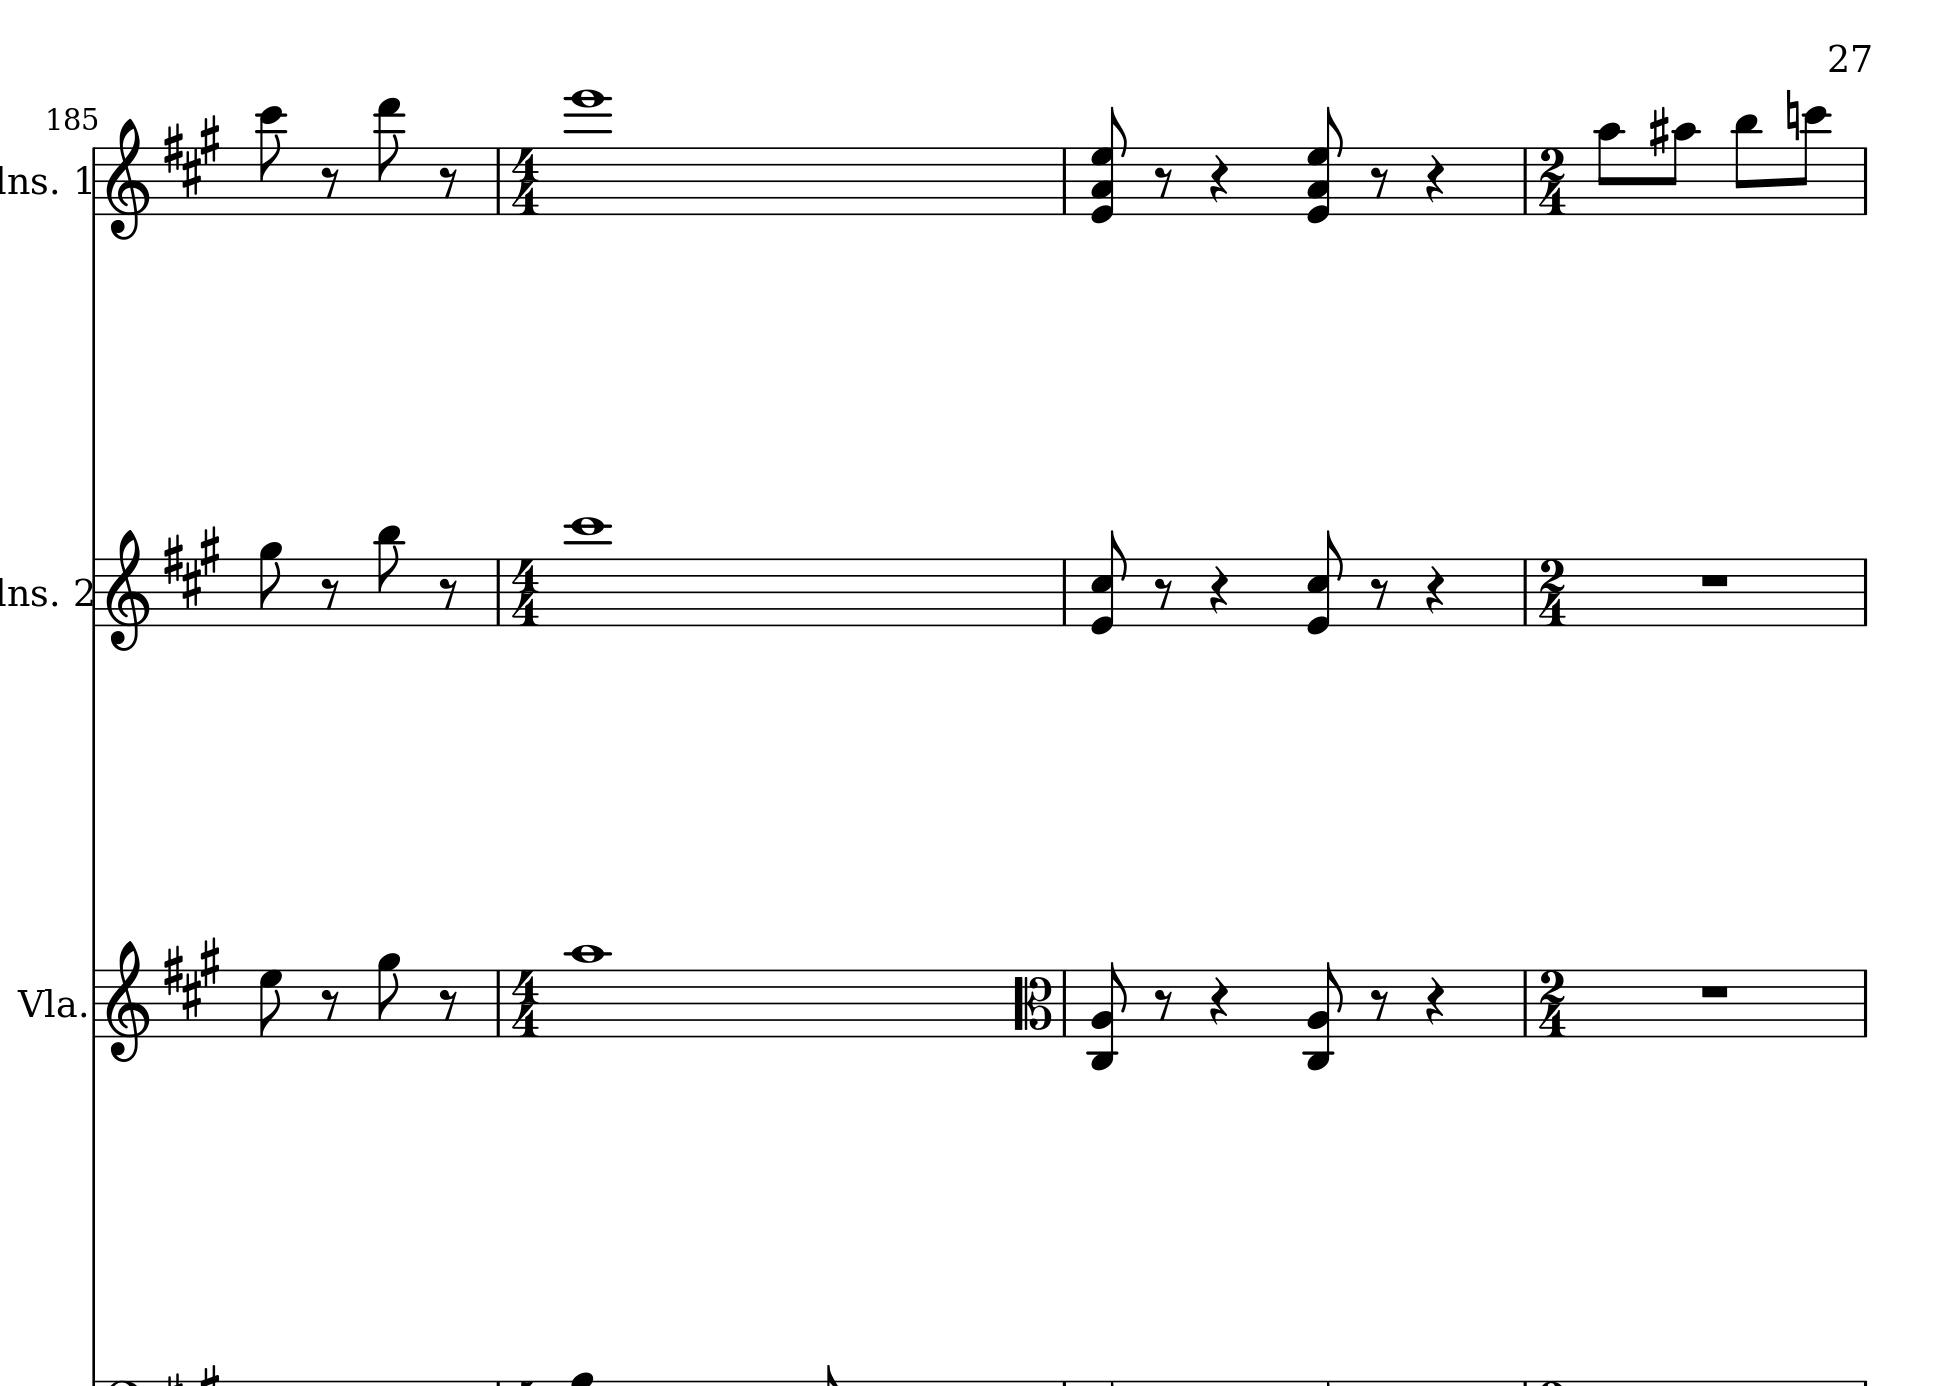1: (46, 103, 61, 133)
1_10: (568, 943, 606, 1039)
1_12: (564, 87, 610, 217), (565, 514, 607, 628)
2: (1537, 145, 1569, 181), (1537, 556, 1569, 592), (1537, 967, 1567, 1003), (1827, 42, 1849, 73)
4: (510, 145, 541, 181), (510, 556, 541, 592), (510, 967, 541, 1003), (1536, 181, 1569, 214), (510, 180, 541, 214), (510, 591, 541, 625), (510, 1002, 541, 1036), (1537, 592, 1569, 625), (1537, 1003, 1569, 1036)
5: (81, 103, 99, 132)
7: (1851, 40, 1872, 73)
8: (61, 103, 79, 132)
8_-3_2: (1302, 960, 1345, 1074), (1087, 961, 1131, 1072)
8_0_5: (1305, 528, 1345, 636), (1089, 529, 1128, 634)
8_10: (1665, 121, 1699, 216), (1596, 120, 1623, 216)
8_11: (373, 523, 403, 628), (1732, 112, 1761, 216)
8_12: (1792, 103, 1830, 217), (256, 103, 286, 217)
8_13: (373, 96, 406, 217)
8_7: (258, 967, 283, 1038)
8_9: (256, 538, 285, 628), (375, 952, 403, 1038)
8_th: (1305, 103, 1345, 229), (1089, 105, 1129, 226)
A_S: (162, 523, 220, 607), (162, 114, 220, 196), (162, 936, 220, 1018)
Cclef: (1014, 967, 1054, 1036)
Gclef: (103, 115, 153, 244), (103, 526, 153, 654), (103, 937, 151, 1065)
Natural: (1785, 88, 1800, 142)
Rests1: (1696, 568, 1734, 589), (1696, 979, 1734, 1000)
Rests4: (1209, 153, 1230, 205), (1425, 153, 1446, 205), (1425, 564, 1446, 616), (1209, 975, 1230, 1027), (1425, 975, 1446, 1027), (1209, 564, 1230, 615)
Rests8: (1152, 165, 1176, 199), (1152, 576, 1176, 610), (1152, 987, 1176, 1021), (1368, 987, 1392, 1021), (436, 985, 459, 1021), (1368, 165, 1390, 199), (1368, 576, 1390, 610), (438, 163, 459, 199), (438, 574, 459, 610), (319, 985, 340, 1021), (319, 163, 340, 198), (319, 574, 340, 609)
Sharp: (1648, 103, 1671, 157)
Single_barline: (1056, 148, 1074, 214), (1056, 559, 1074, 625), (1518, 147, 1534, 214), (1857, 147, 1873, 214), (1518, 558, 1534, 625), (1857, 558, 1873, 625), (489, 969, 505, 1036), (1857, 969, 1873, 1036), (489, 148, 505, 214), (489, 558, 505, 624), (1056, 970, 1072, 1036), (1518, 969, 1533, 1036), (88, 145, 102, 216), (88, 558, 102, 627), (87, 969, 100, 1038)
TimeSig: (510, 147, 541, 214), (510, 970, 541, 1038), (510, 559, 541, 625), (1537, 558, 1567, 627), (1537, 969, 1567, 1038), (1537, 147, 1567, 214)
Vln: (18, 982, 76, 1024)
